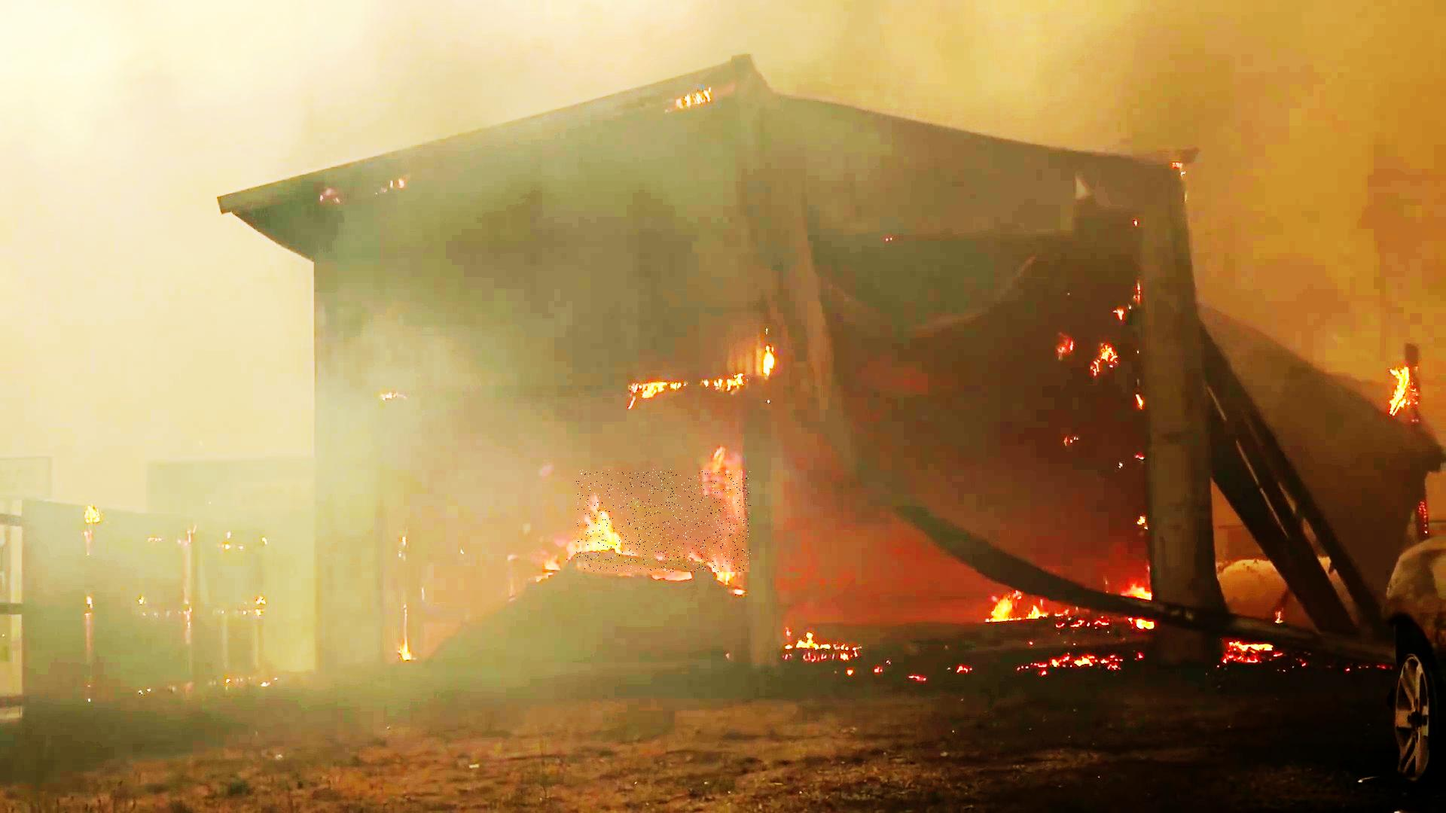fire: (576, 469, 751, 572)
